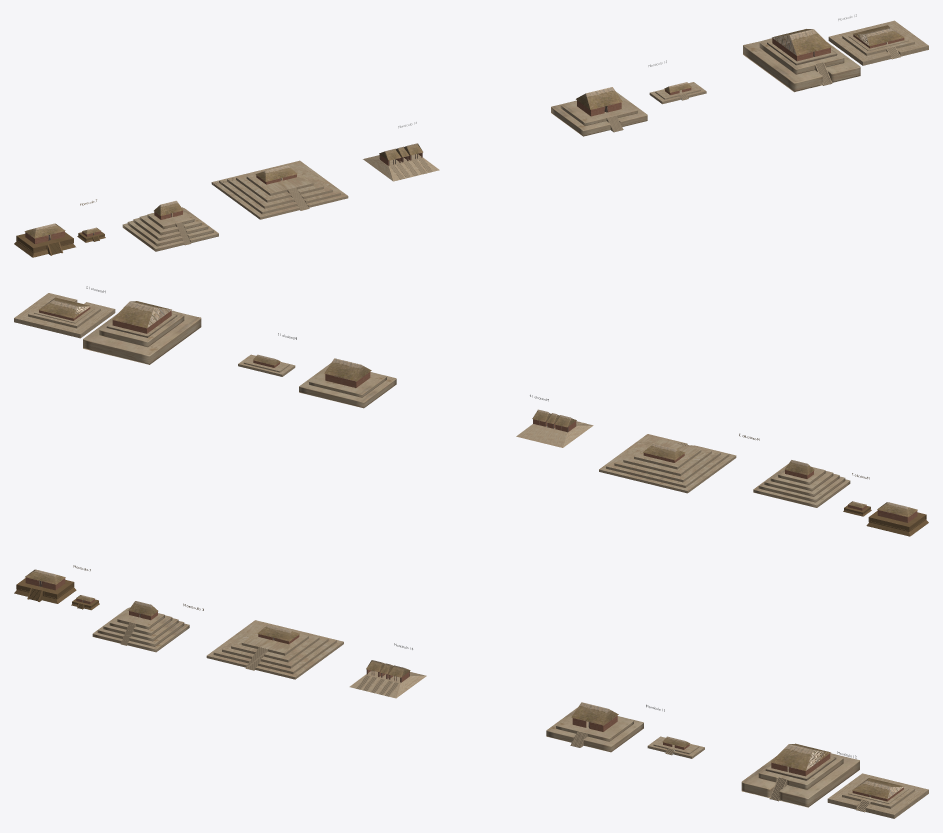
File: Monticulo7.obj
The picture shows the model from 3 angles, top to bottom: view 1: azimuth 30°, elevation 25°; view 2: azimuth 150°, elevation 25°; view 3: azimuth 330°, elevation 25°; orthographic projection.
Parts seen in each view (by area): view 1: Plane.023, Cube, Templo_1_y_2, Cube.003, Rancho_techo.001, Cube.002, Cube.001, Cube.022, Plane.005, Rancho_techo, Cube.025, Cube.026 (+1 smaller); view 2: Plane.023, Cube, Templo_1_y_2, Cube.003, Cube.022, Rancho_techo.001, Cube.001, Cube.002, Plane.005, Rancho_techo, Cube.025, Cube.026 (+1 smaller); view 3: Plane.023, Cube, Templo_1_y_2, Cube.003, Rancho_techo.001, Cube.002, Cube.001, Cube.022, Plane.005, Rancho_techo, Cube.025, Cube.026.
Part boxes in pixels (<box>): Plane.023: <box>211,160,348,219</box>; Cube: <box>743,38,860,92</box>; Templo_1_y_2: <box>828,20,928,65</box>; Cube.003: <box>551,92,647,136</box>; Rancho_techo.001: <box>772,29,831,55</box>; Cube.002: <box>560,97,637,125</box>; Cube.001: <box>759,40,844,74</box>; Cube.022: <box>363,154,439,181</box>; Plane.005: <box>576,87,622,109</box>; Rancho_techo: <box>852,25,904,46</box>; Cube.025: <box>122,223,218,251</box>; Cube.026: <box>127,208,213,246</box>; Plane.023: <box>599,434,736,493</box>; Cube: <box>83,310,201,364</box>; Templo_1_y_2: <box>14,293,115,338</box>; Cube.003: <box>299,363,396,408</box>; Cube.022: <box>516,422,593,447</box>; Rancho_techo.001: <box>112,301,171,328</box>; Cube.001: <box>99,312,184,347</box>; Cube.002: <box>309,368,386,397</box>; Plane.005: <box>324,358,371,381</box>; Rancho_techo: <box>39,297,90,318</box>; Cube.025: <box>753,479,850,507</box>; Cube.026: <box>758,464,845,502</box>; Plane.023: <box>206,620,343,679</box>; Cube: <box>741,753,859,807</box>; Templo_1_y_2: <box>827,773,928,818</box>; Cube.003: <box>546,707,643,752</box>; Rancho_techo.001: <box>770,743,830,770</box>; Cube.002: <box>556,712,633,741</box>; Cube.001: <box>758,754,843,789</box>; Cube.022: <box>349,671,426,698</box>; Plane.005: <box>571,702,618,725</box>; Rancho_techo: <box>852,778,904,798</box>; Cube.025: <box>92,623,189,652</box>; Cube.026: <box>97,608,184,646</box>.
Bounding box in the file's own units: 803 × 34.03 × 86.39.
